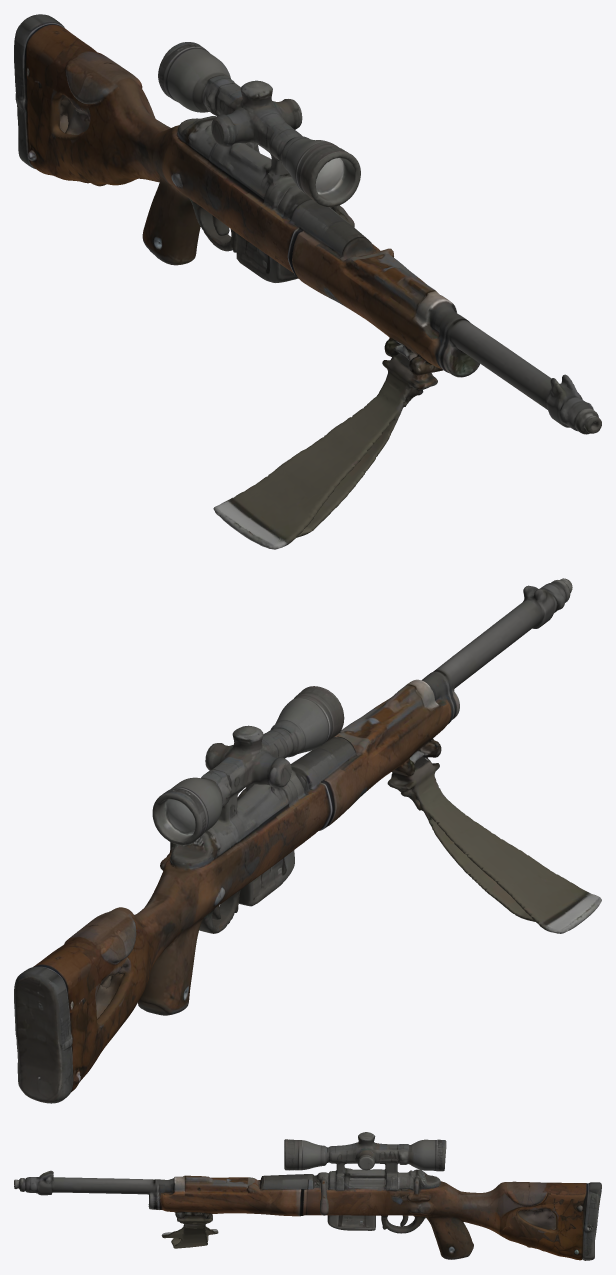
File: قناصة-2.glb
3 renders of one model, top to bottom at view 1: azimuth 30°, elevation 25°; view 2: azimuth 150°, elevation 25°; view 3: azimuth 270°, elevation 25°, orthographic. The views are drawn at different scales.
Visible parts, largest first — view 1: tripo_node_947e5c1d-75af-47d3-b664-ba311424665f; view 2: tripo_node_947e5c1d-75af-47d3-b664-ba311424665f; view 3: tripo_node_947e5c1d-75af-47d3-b664-ba311424665f.
Part boxes in pixels (<box>): tripo_node_947e5c1d-75af-47d3-b664-ba311424665f: <box>14,14,601,549</box>; tripo_node_947e5c1d-75af-47d3-b664-ba311424665f: <box>14,578,601,1103</box>; tripo_node_947e5c1d-75af-47d3-b664-ba311424665f: <box>14,1132,601,1260</box>.
Bounding box in the file's own units: 0.251 × 0.2869 × 1.
Materials: 1 (1 with a texture image).
